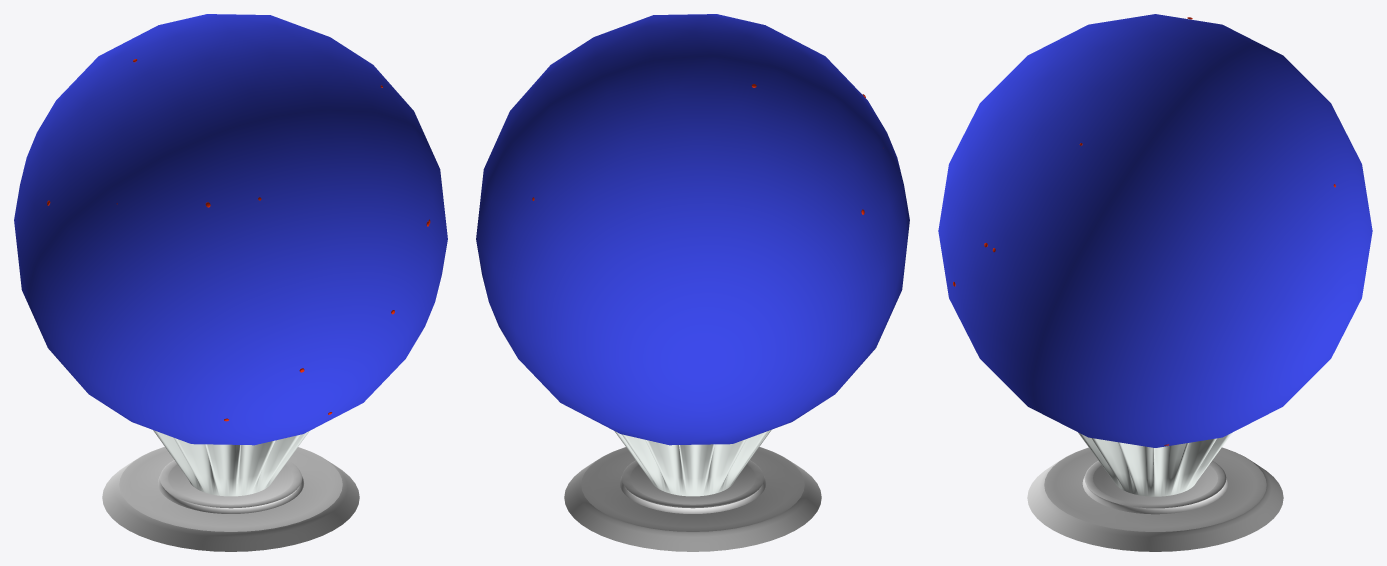
File: 3d-Hologramm.gltf
The picture shows the model from 3 angles, left to right: view 1: azimuth 30°, elevation 25°; view 2: azimuth 150°, elevation 25°; view 3: azimuth 270°, elevation 25°; orthographic projection.
Visible parts, largest first — view 1: Node1, Node3, Node5; view 2: Node1, Node3, Node5; view 3: Node1, Node3, Node5.
Part boxes in pixels (left/top/right/bottom): Node1: left=14, top=14, right=447, bottom=445; Node3: left=102, top=447, right=359, bottom=551; Node5: left=153, top=430, right=309, bottom=496; Node1: left=476, top=14, right=909, bottom=445; Node3: left=564, top=447, right=821, bottom=551; Node5: left=614, top=430, right=771, bottom=496; Node1: left=938, top=14, right=1372, bottom=447; Node3: left=1027, top=447, right=1283, bottom=551; Node5: left=1078, top=432, right=1232, bottom=496.
Size of what is drawn, in the model's own units: 28.17 by 33.17 by 28.17.
